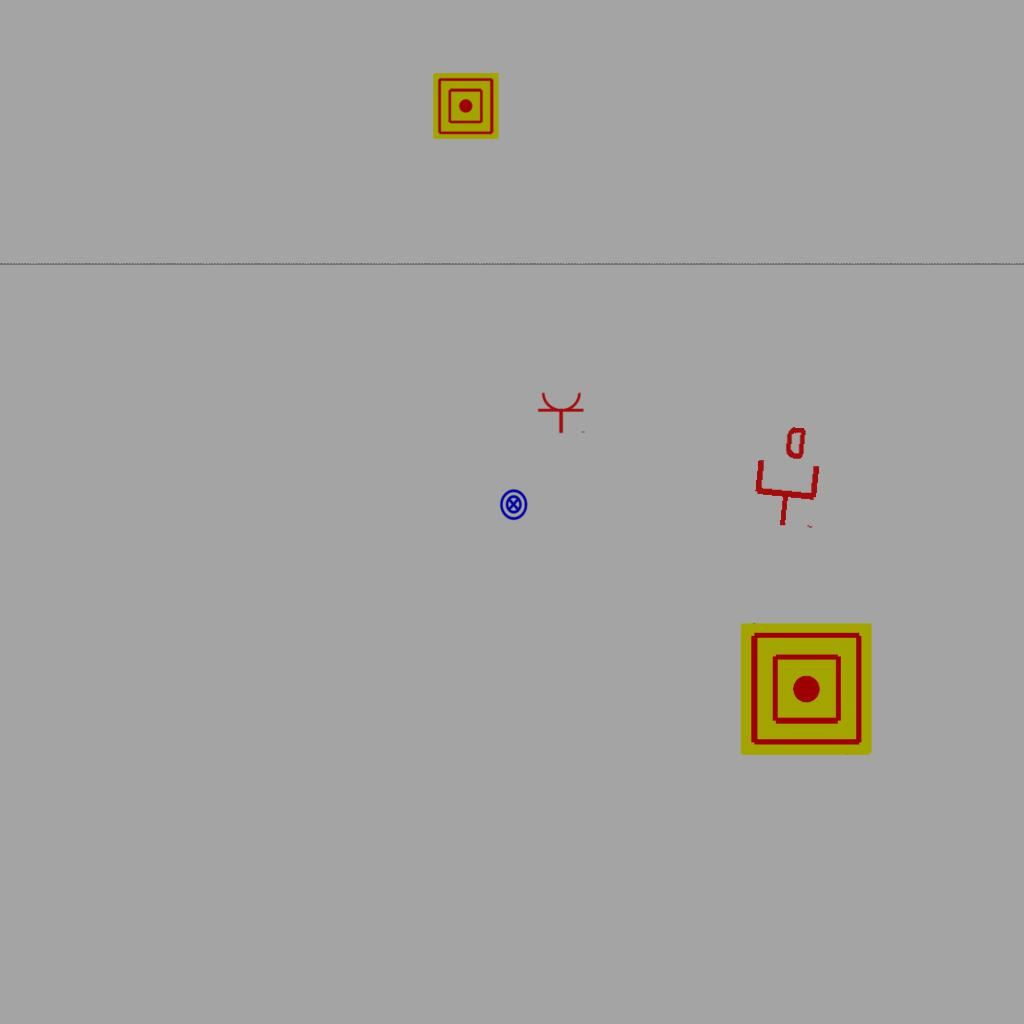Datenanschluss_einfach: (747, 423, 828, 531)
NAM-Nichtautomatischer_Melder: (740, 623, 872, 755), (433, 73, 499, 139)
Schukosteckdose_einfach: (537, 391, 587, 434)
Taster_beleuchtet: (497, 488, 530, 521)
